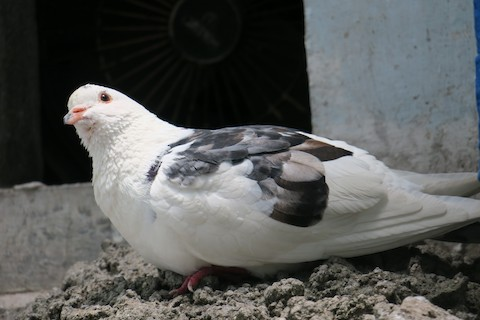pigeon: (61, 79, 472, 299)
